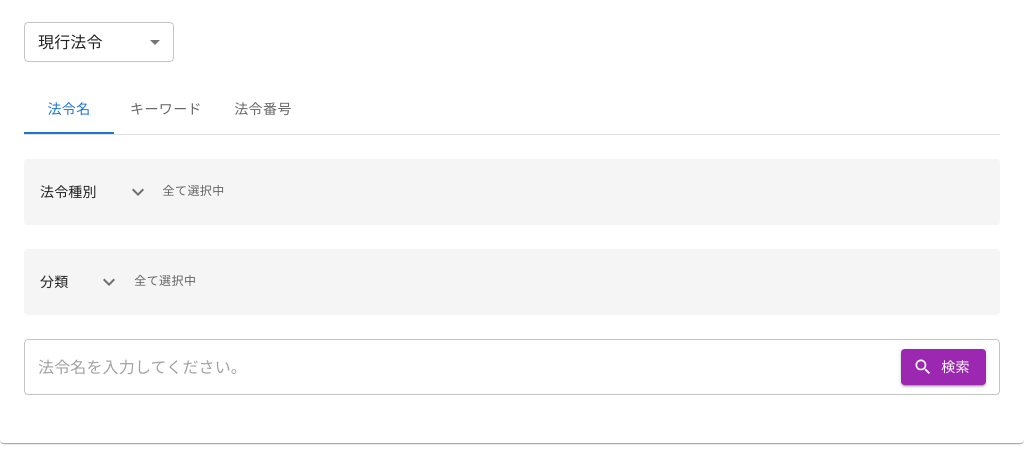
Test case: SearchForm › should show date picker when point-in-time law is selected
Press the mouse on the dropdown at [70, 42], box top-left (38, 32), bottom-right (103, 52)
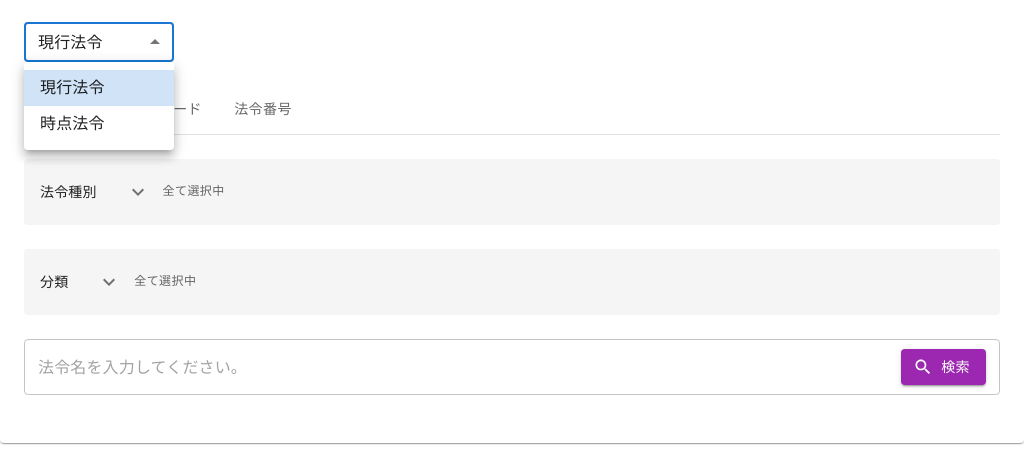
Click the option "時点法令" at [72, 124], box top-left (40, 114), bottom-right (105, 133)
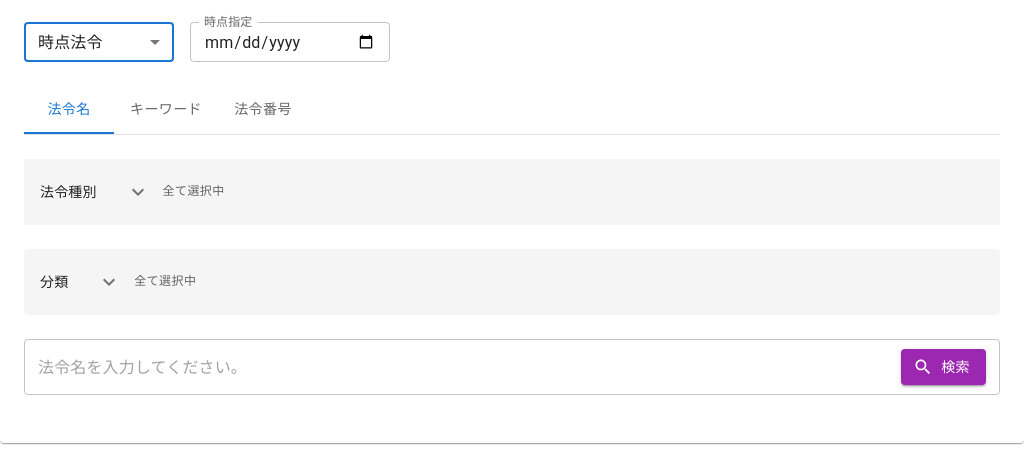
Check: the date field labelled "時点指定" is shown, box top-left (190, 22), bottom-right (390, 62)
